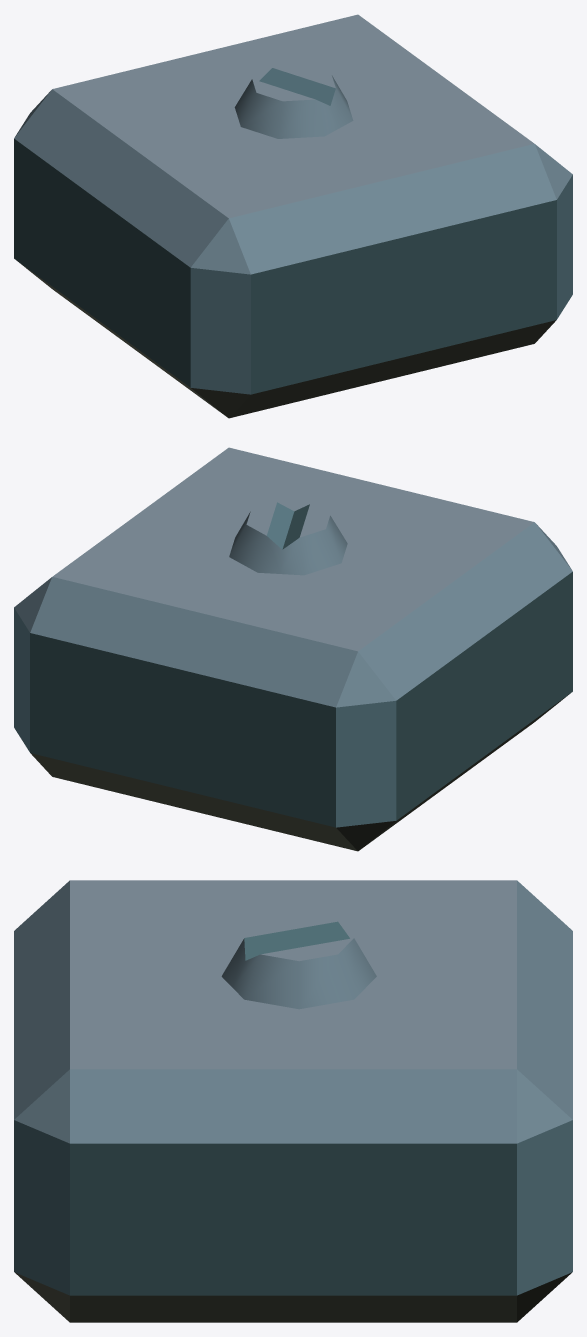
Rendered from m_kub_metal_flatMini.FBX.
3 renders of one model, top to bottom at view 1: azimuth 30°, elevation 25°; view 2: azimuth 150°, elevation 25°; view 3: azimuth 270°, elevation 25°, orthographic. The views are drawn at different scales.
Visible parts, largest first — view 1: m_kub_metal_flatMini; view 2: m_kub_metal_flatMini; view 3: m_kub_metal_flatMini.
Boxes of the visible parts, left/top/right/bottom form: m_kub_metal_flatMini: left=14, top=14, right=572, bottom=418; m_kub_metal_flatMini: left=14, top=447, right=572, bottom=851; m_kub_metal_flatMini: left=14, top=880, right=572, bottom=1322.
Bounding box in the file's own units: 1 × 0.5761 × 1.
